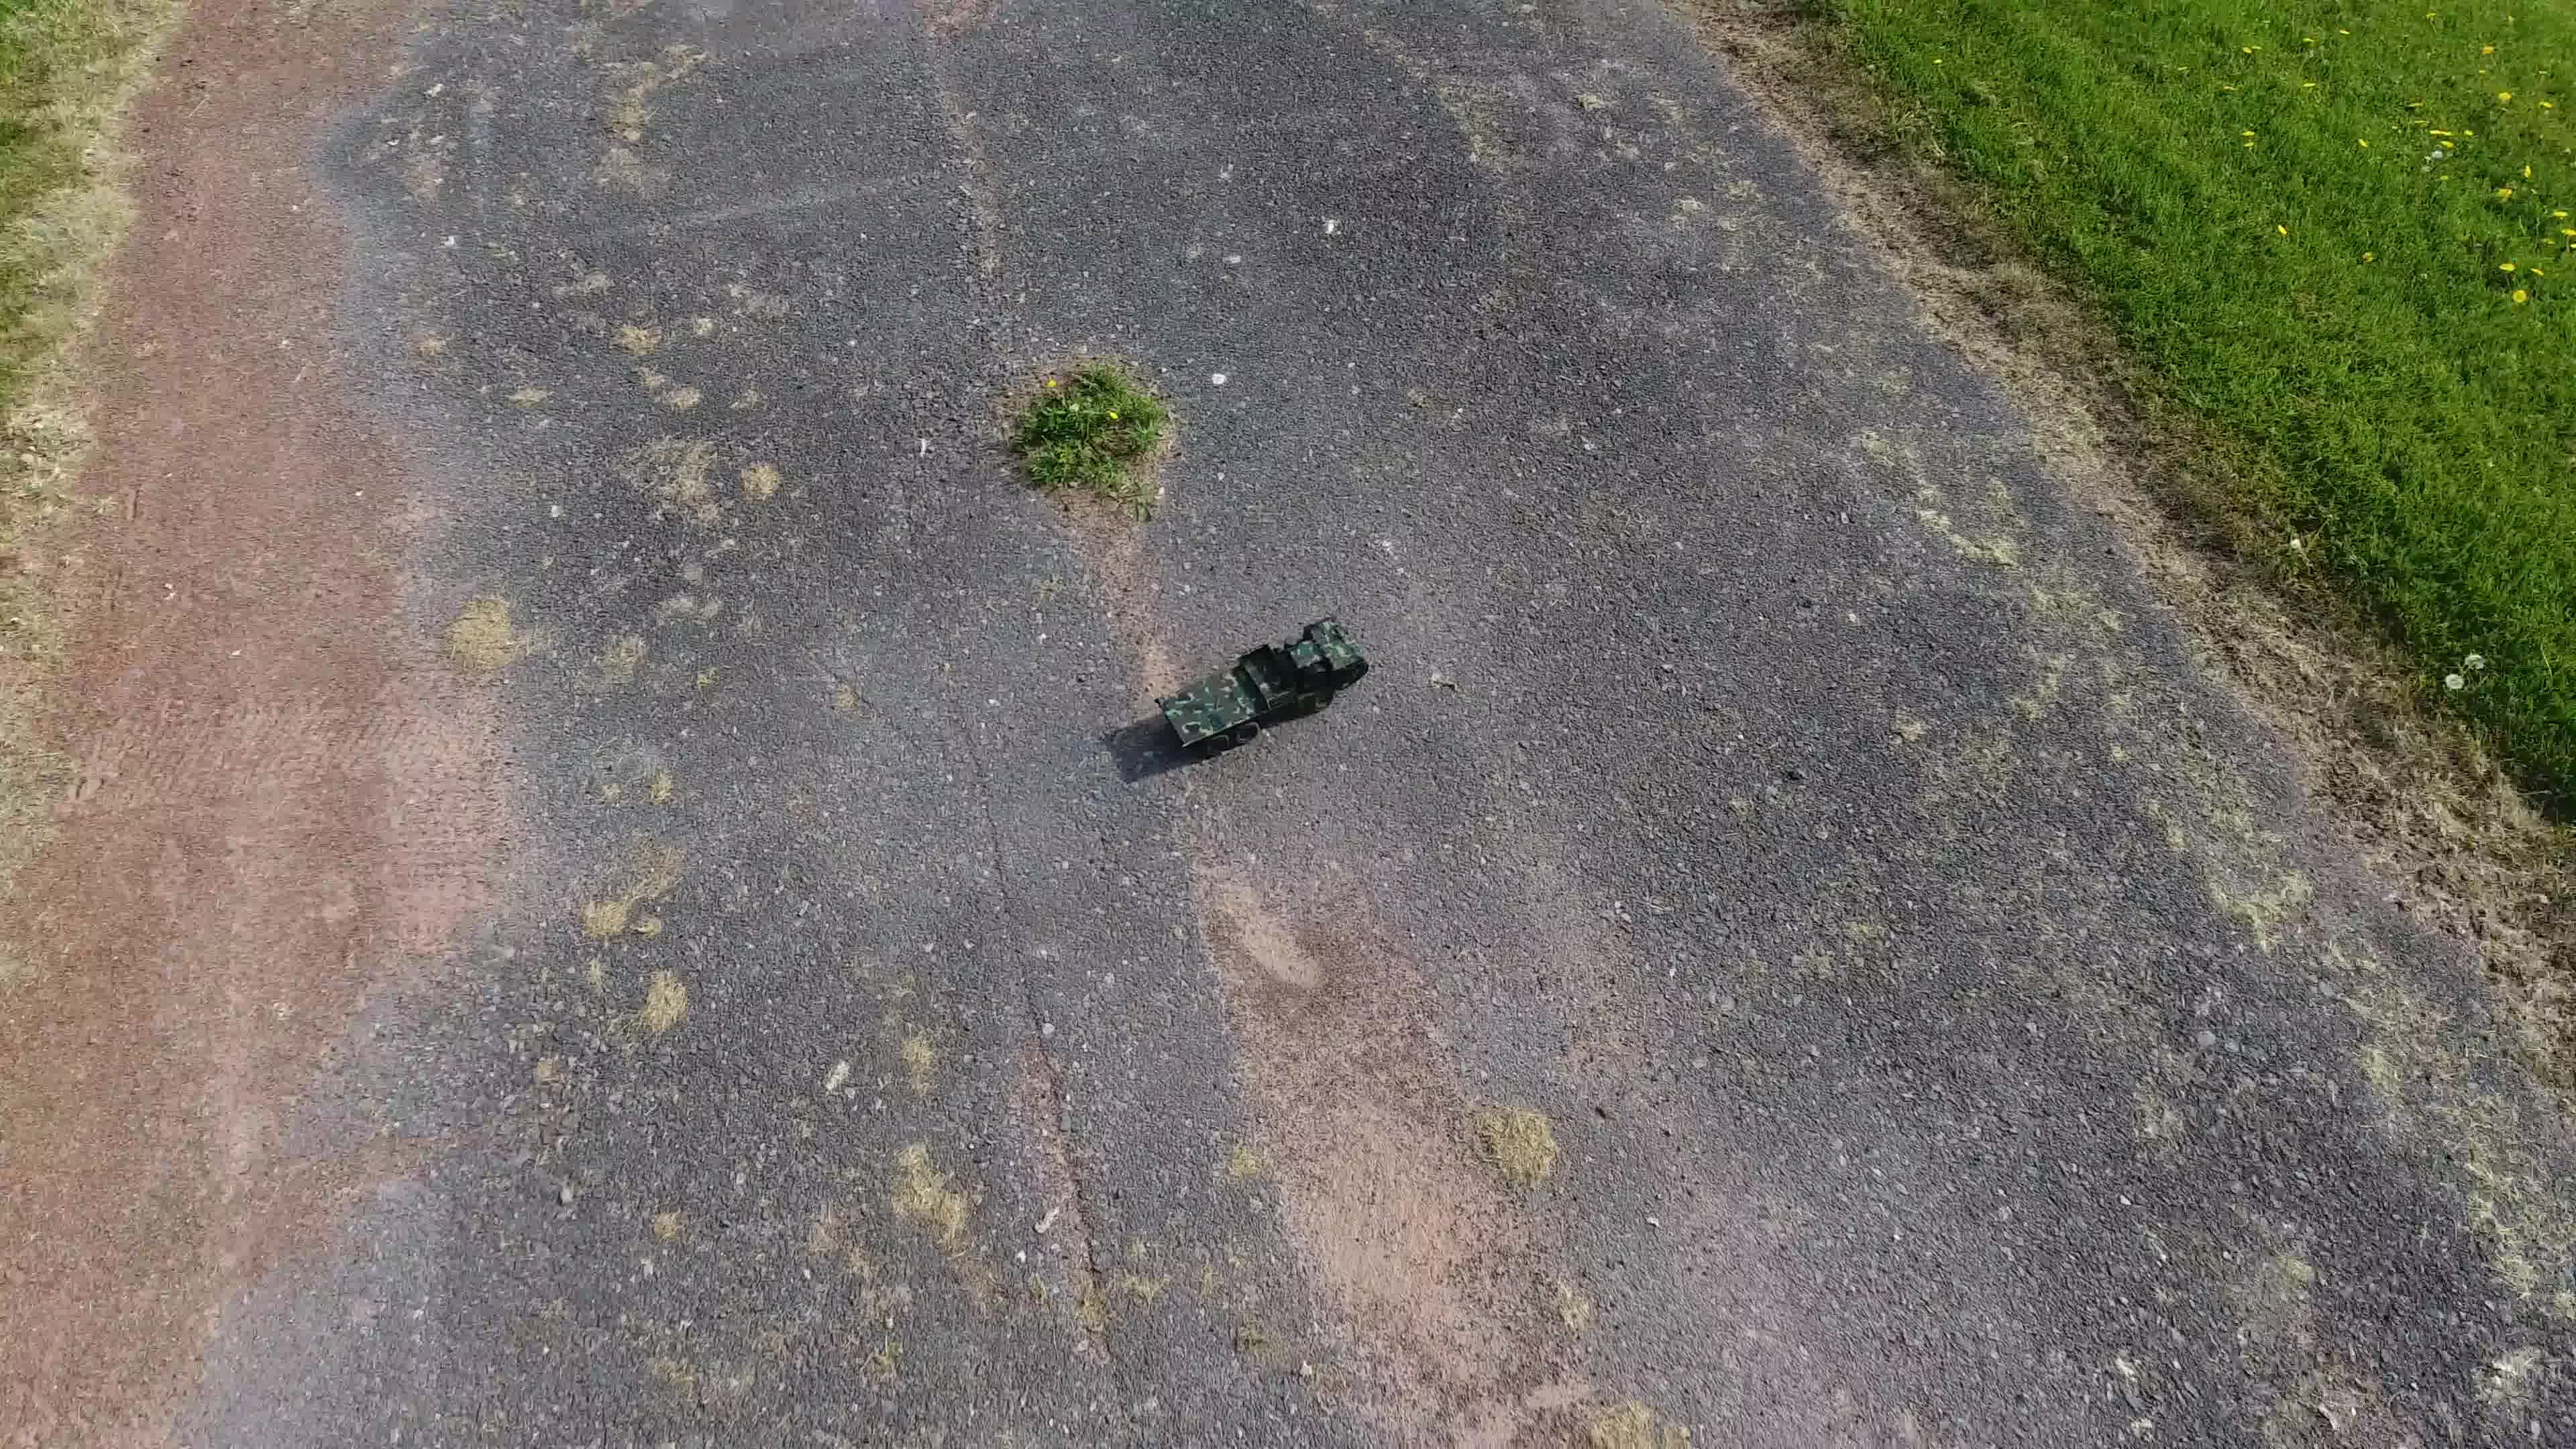transporter9_camo: (1150, 605, 1376, 761)
